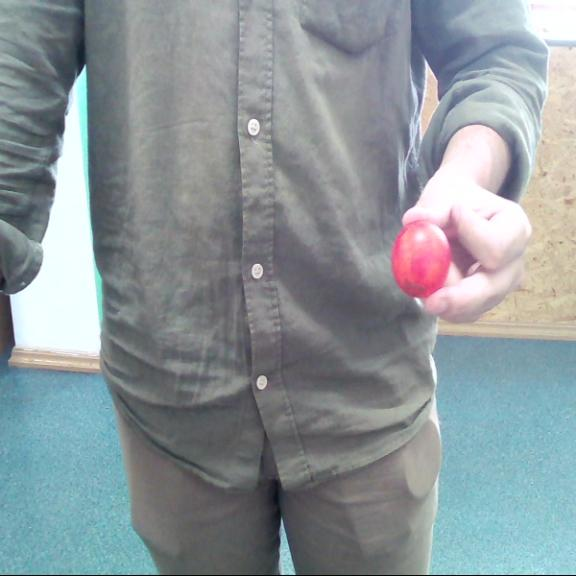ball: (387, 219, 456, 301)
